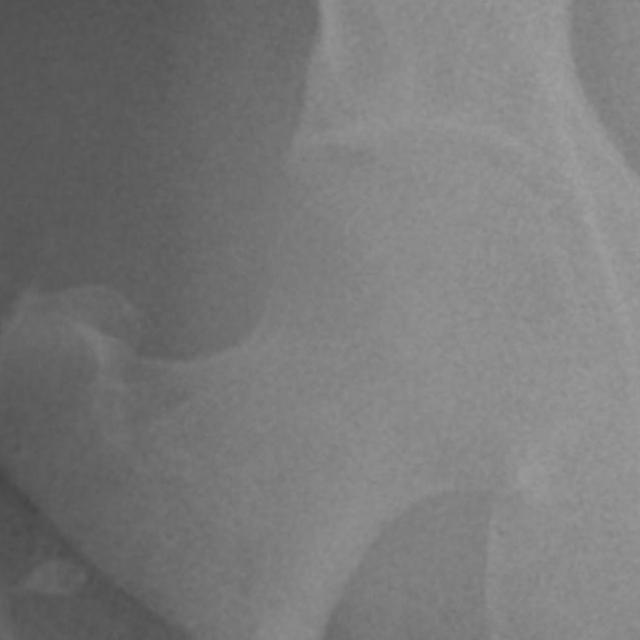Fitted_femural_head: (366, 155, 432, 366)
